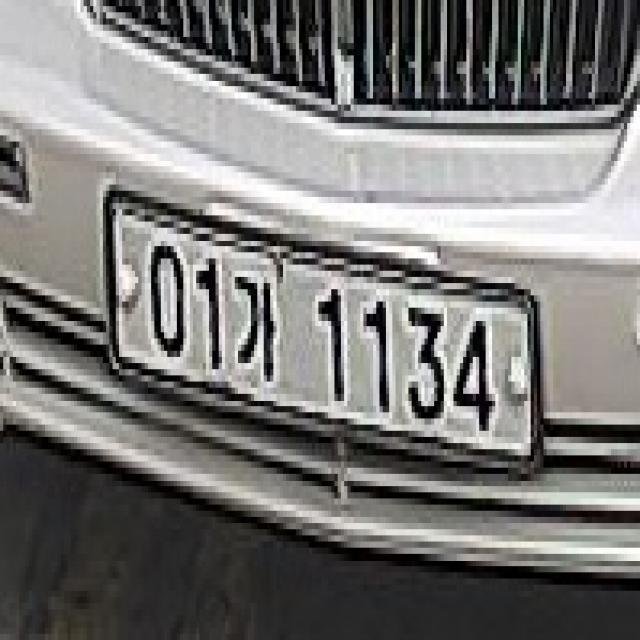0: (146, 241, 190, 368)
1: (315, 282, 347, 412), (192, 254, 224, 376), (360, 294, 390, 416)
3: (402, 302, 448, 429)
4: (452, 313, 493, 438)
ga: (230, 271, 280, 384)
license_plate: (111, 192, 543, 479)
